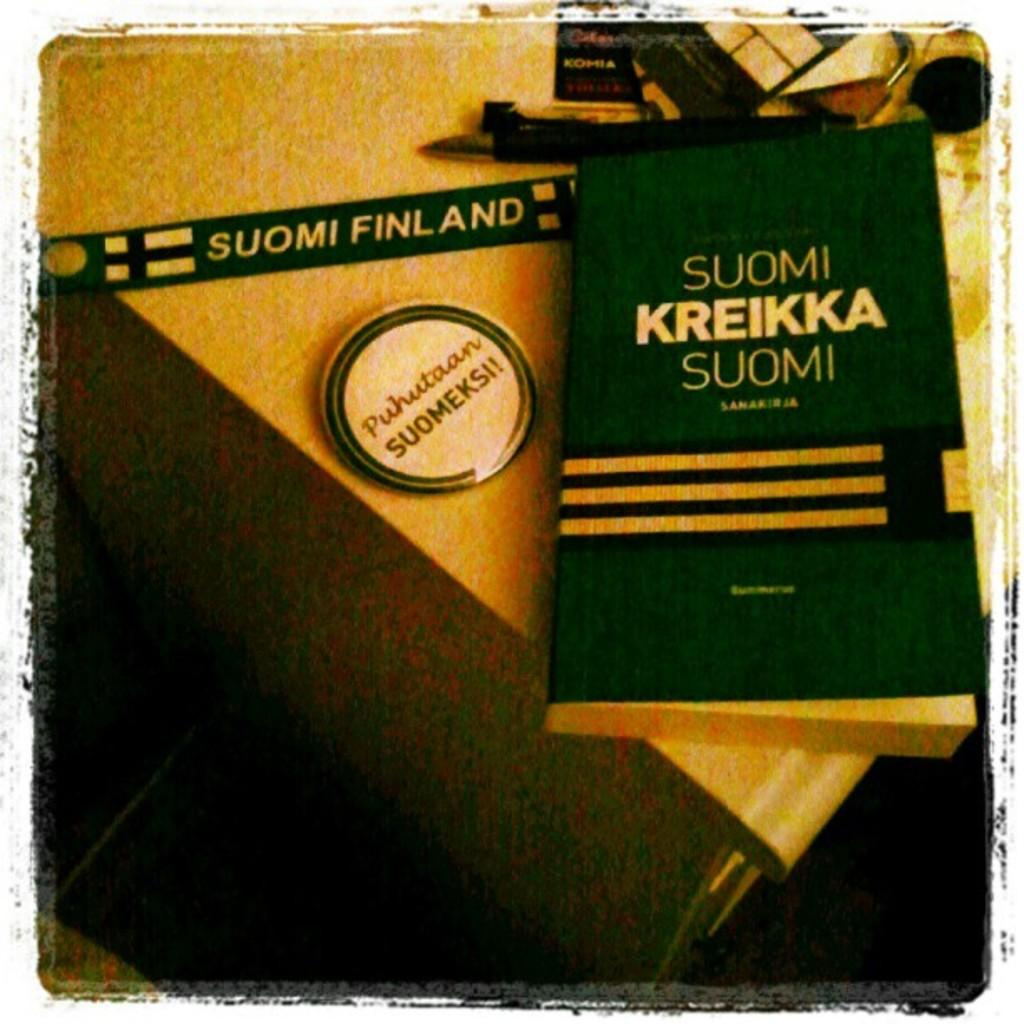book: (534, 79, 999, 847)
